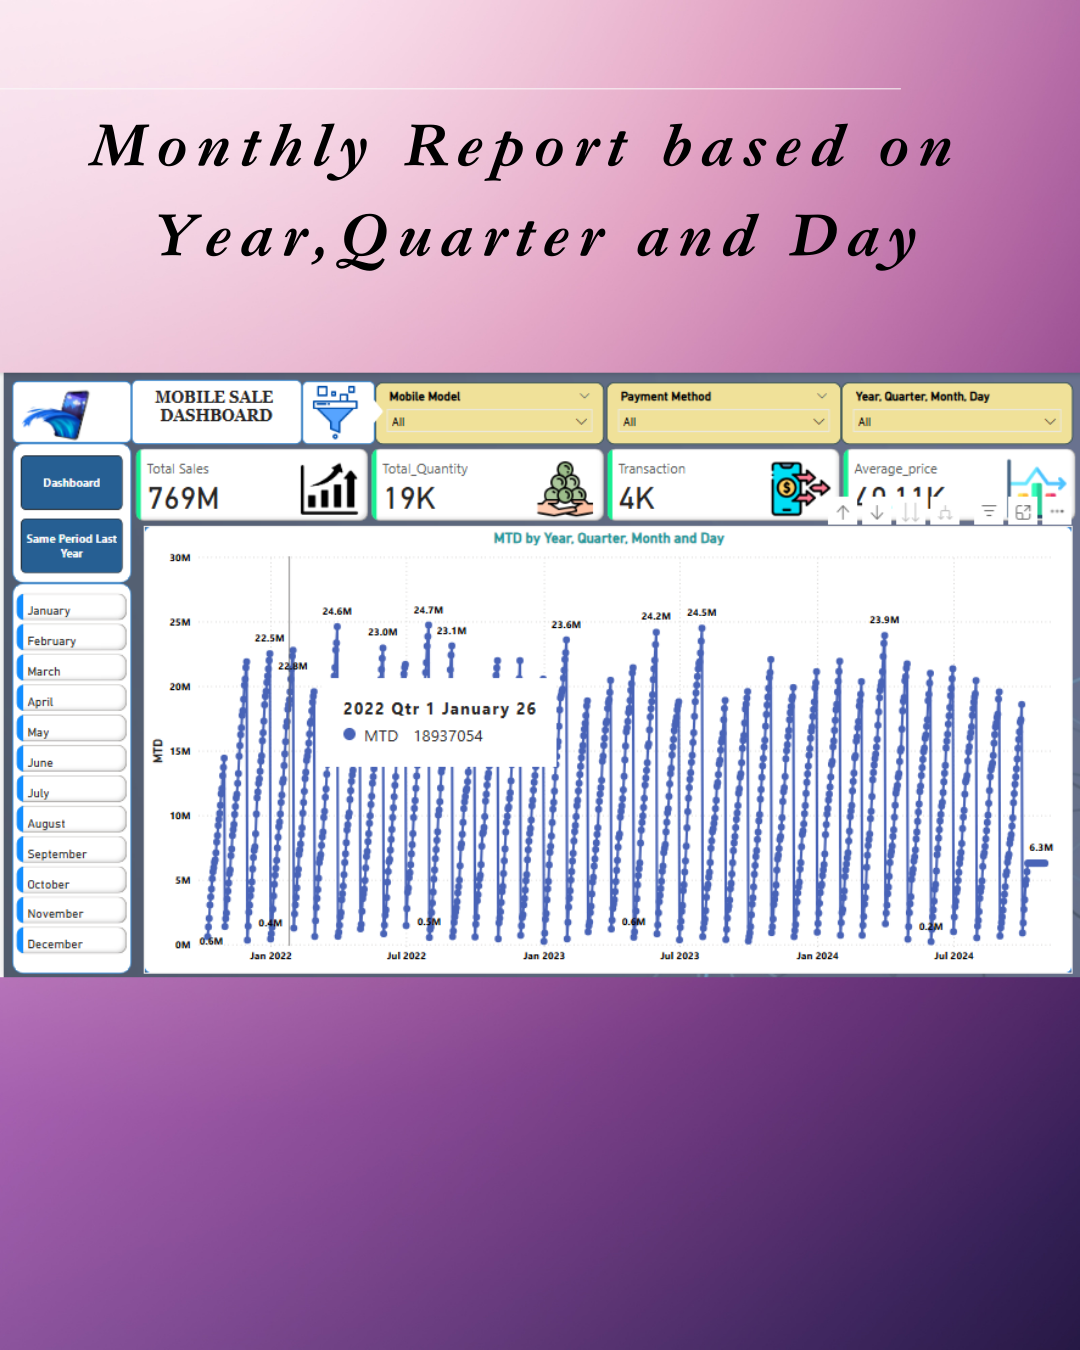

What the dashboard file says about the page in this screenshot:
{"tool":"powerbi","page":{"name":"MTD Report","canvas":[1280,720],"ordinal":1},"visuals":[{"type":"shape","box":[10.1,10.1,141.7,73.7],"z":0},{"type":"image","box":[10.1,0,111.3,98.3],"z":1000},{"type":"shape","box":[10.1,83.9,141.7,166.3],"z":2000},{"type":"cardVisual","fields":{"Data":["Sales_Data.Total Sales","Sales_Data.Total_Quantity","Sales_Data.Transaction","Sales_Data.Average_price"]},"box":[151.8,85.3,1127.7,96.9],"z":3000},{"type":"slicer","fields":{"Values":["Sales_Data.Mobile Model"]},"box":[441,11.6,271.8,73.7],"z":4000},{"type":"slicer","fields":{"Values":["Sales_Data.Payment Method"]},"box":[715.7,11.6,279,73.7],"z":5000},{"type":"slicer","fields":{"Values":["Custom_Calender.Date.Variation.Date Hierarchy.Year","Custom_Calender.Date.Variation.Date Hierarchy.Quarter","Custom_Calender.Date.Variation.Date Hierarchy.Month","Custom_Calender.Date.Variation.Date Hierarchy.Day"]},"box":[994.7,11.6,274.7,73.7],"z":6000},{"type":"shape","box":[354.2,10.1,86.7,75.2],"z":7000},{"type":"image","box":[354.2,10.1,79.5,75.2],"z":8000},{"type":"shape","box":[151.8,8.7,202.4,76.6],"z":9000},{"type":"textbox","box":[166.3,14.5,172,65.1],"z":10000},{"type":"shape","box":[420.7,27.5,30.4,37.6],"z":11000},{"type":"lineChart","fields":{"Y":["Sales_Data.MTD"],"Category":["Custom_Calender.Date.Variation.Date Hierarchy.Year","Custom_Calender.Date.Variation.Date Hierarchy.Quarter","Custom_Calender.Date.Variation.Date Hierarchy.Month","Custom_Calender.Date.Variation.Date Hierarchy.Day"]},"box":[166.3,182.2,1103.1,532],"z":12000},{"type":"shape","box":[10.1,250.1,141.7,464.1],"z":13000},{"type":"advancedSlicerVisual","fields":{"Values":["Custom_Calender.Date.Variation.Date Hierarchy.Month"]},"box":[10.1,257.3,141.7,449.6],"z":14000},{"type":"pageNavigator","box":[20.2,98.3,121.4,140.2],"z":15000}]}

Visuals, with their boxes on the page's 1280x720 design canvas (x1, y1, x2, y2). These are canvas units, not pixel positions in the 1080x1350 screenshot, which may show the page scaled, cropped or inside an application window:
shape: (10,10,152,84)
image: (10,0,121,98)
shape: (10,84,152,250)
cardVisual - Sales_Data.Total Sales x Sales_Data.Total_Quantity: (152,85,1280,182)
slicer - Sales_Data.Mobile Model: (441,12,713,85)
slicer - Sales_Data.Payment Method: (716,12,995,85)
slicer - Custom_Calender.Date.Variation.Date Hierarchy.Year x Custom_Calender.Date.Variation.Date Hierarchy.Quarter: (995,12,1269,85)
shape: (354,10,441,85)
image: (354,10,434,85)
shape: (152,9,354,85)
textbox: (166,14,338,80)
shape: (421,28,451,65)
lineChart - Sales_Data.MTD x Custom_Calender.Date.Variation.Date Hierarchy.Year: (166,182,1269,714)
shape: (10,250,152,714)
advancedSlicerVisual - Custom_Calender.Date.Variation.Date Hierarchy.Month: (10,257,152,707)
pageNavigator: (20,98,142,238)
